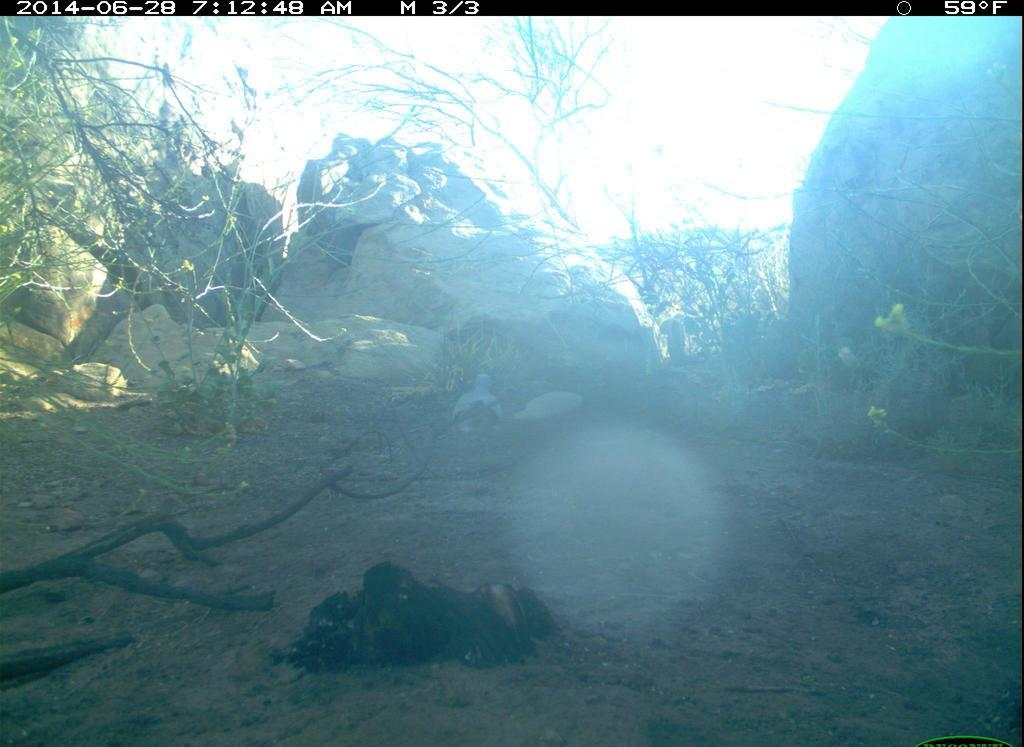bird: (447, 369, 513, 449)
